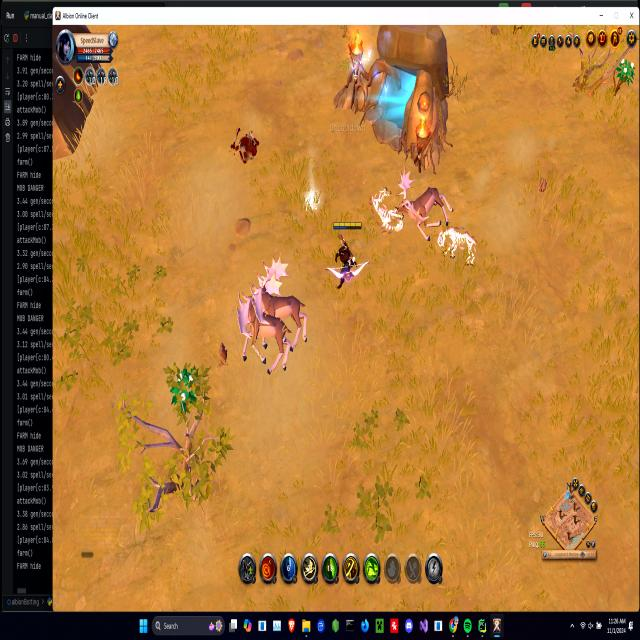hide: (172, 364, 196, 413), (616, 58, 634, 88)
mob: (246, 262, 306, 376), (397, 170, 453, 242)
red: (330, 218, 363, 285)
stone: (304, 188, 321, 216)
